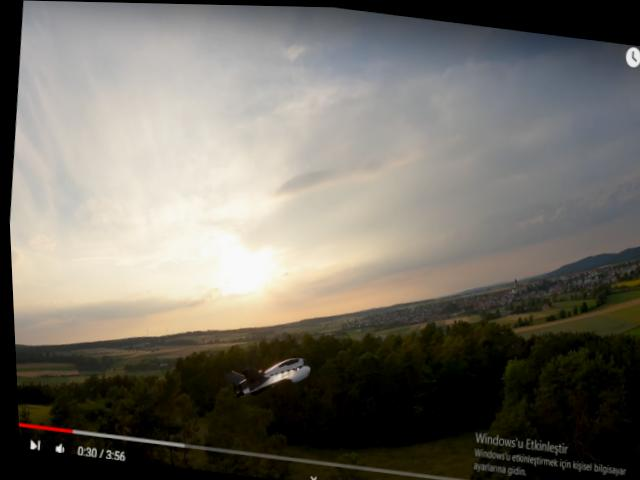plane: (225, 346, 309, 405)
